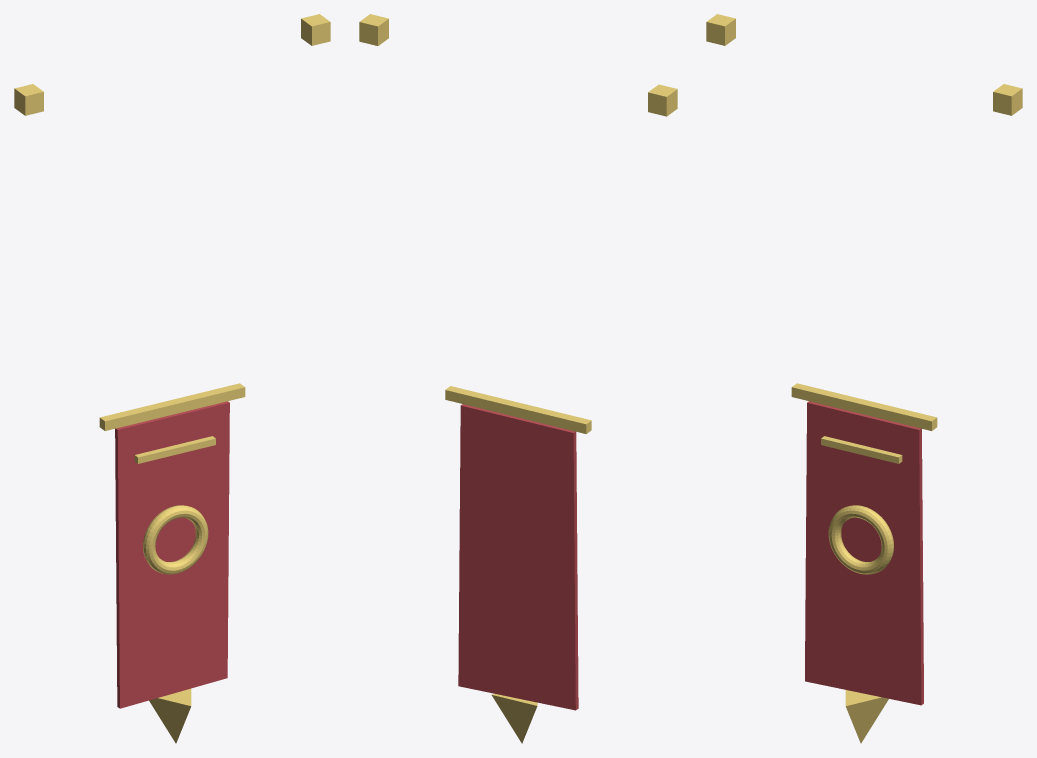
File: Banner.glb
The picture shows the model from 3 angles, left to right: view 1: azimuth 30°, elevation 25°; view 2: azimuth 150°, elevation 25°; view 3: azimuth 330°, elevation 25°; orthographic projection.
Visible parts, largest first — view 1: Banner; view 2: Banner; view 3: Banner.
Part boxes in pixels (x1,y1,x2,y2): Banner: (14, 14, 330, 743); Banner: (359, 14, 677, 743); Banner: (706, 14, 1022, 743).
Bounding box in the file's own units: 1.96 × 4.21 × 0.27.
